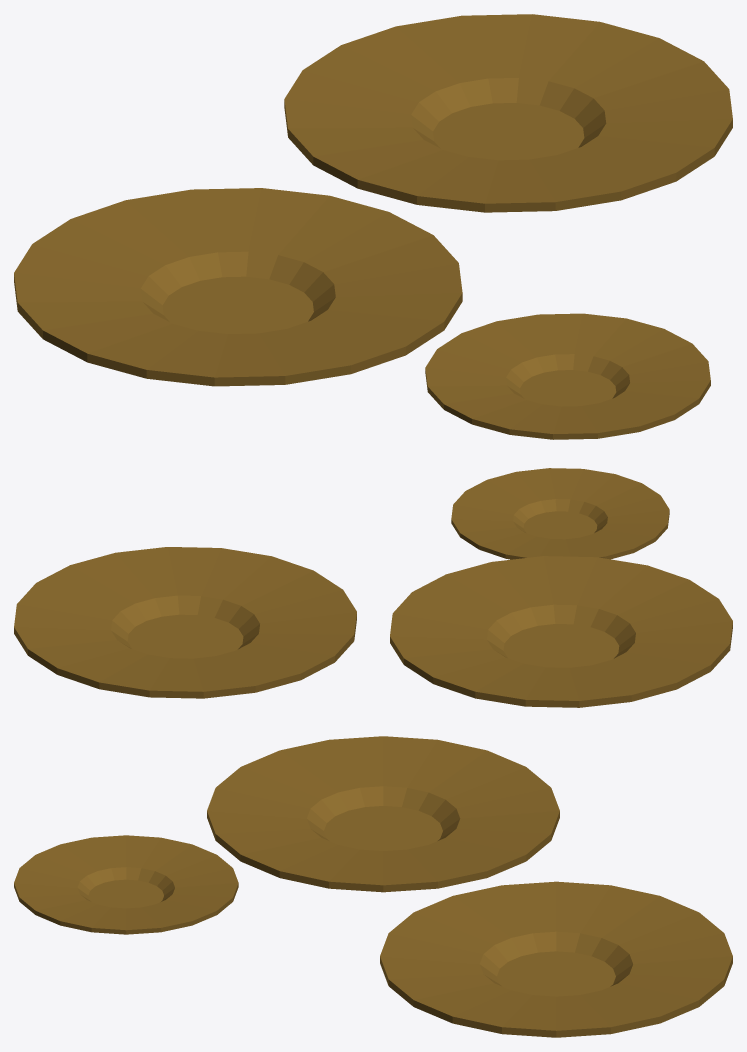
File: plates.fbx
3 views of the same model, one above another, from view 1: azimuth 30°, elevation 25°; view 2: azimuth 150°, elevation 25°; view 3: azimuth 270°, elevation 25° (orthographic). The views are drawn at different scales.
Parts seen in each view (by area): view 1: pasted__pCylinder9, pasted__pasted__pasted__pCylinder9, pasted__pasted__pCylinder9; view 2: pasted__pasted__pasted__pCylinder9, pasted__pCylinder9, pasted__pasted__pCylinder9; view 3: pasted__pCylinder9, pasted__pasted__pasted__pCylinder9, pasted__pasted__pCylinder9.
Boxes of the visible parts, x1,y1,x2,y2 form: pasted__pCylinder9: (284, 14, 732, 212); pasted__pasted__pasted__pCylinder9: (14, 188, 462, 386); pasted__pasted__pCylinder9: (425, 313, 710, 439); pasted__pasted__pasted__pCylinder9: (390, 556, 732, 707); pasted__pCylinder9: (14, 547, 356, 698); pasted__pasted__pCylinder9: (451, 468, 669, 559); pasted__pCylinder9: (380, 881, 732, 1037); pasted__pasted__pasted__pCylinder9: (207, 736, 559, 892); pasted__pasted__pCylinder9: (14, 835, 238, 934).
Bounding box in the file's own units: 81.52 × 3.52 × 84.05.
